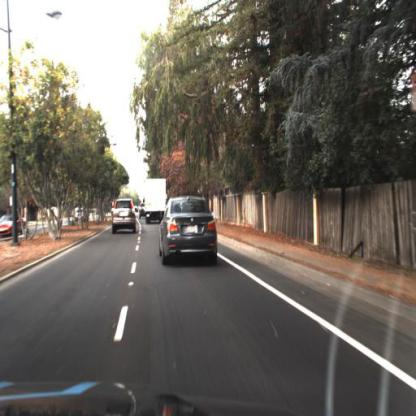car: (157, 192, 222, 269), (141, 175, 174, 229), (111, 197, 138, 237), (1, 215, 27, 241)
truck: (143, 174, 172, 225)
